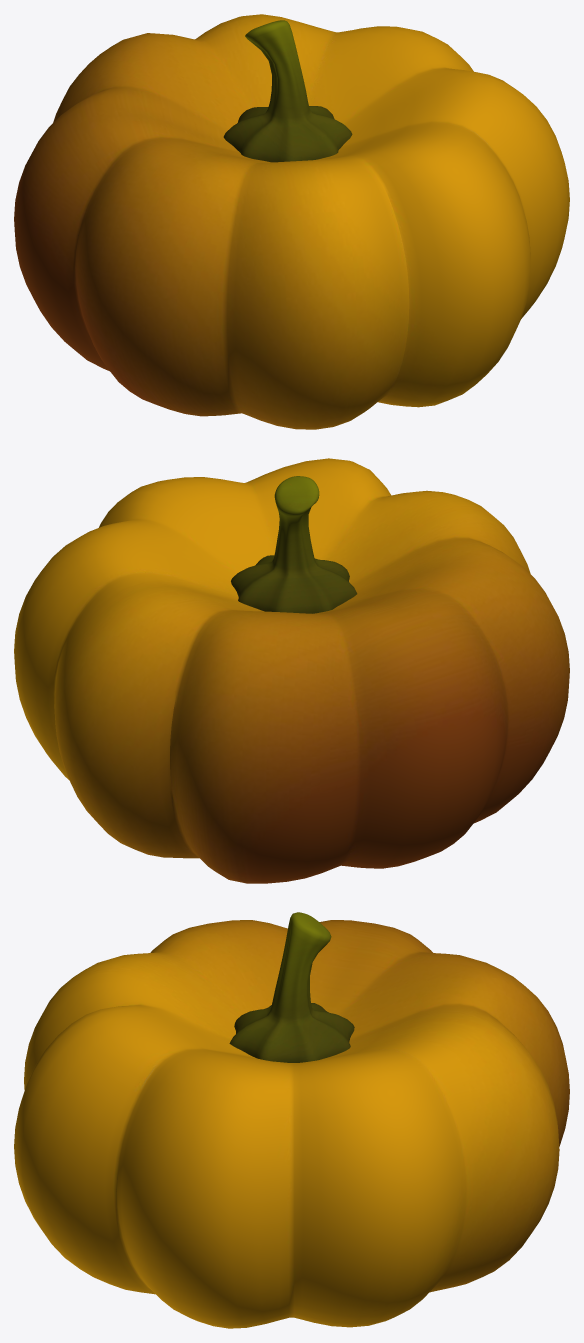
Rendered from pumpkin.glb.
3 renders of one model, top to bottom at view 1: azimuth 30°, elevation 25°; view 2: azimuth 150°, elevation 25°; view 3: azimuth 270°, elevation 25°, orthographic.
Parts seen in each view (by area): view 1: pumbkin001_1, top_pumbkin001_0; view 2: pumbkin001_1, top_pumbkin001_0; view 3: pumbkin001_1, top_pumbkin001_0.
Part boxes in pixels (x1,y1,x2,y2): pumbkin001_1: (14, 14, 569, 429); top_pumbkin001_0: (223, 20, 352, 162); pumbkin001_1: (14, 458, 569, 883); top_pumbkin001_0: (231, 476, 357, 613); pumbkin001_1: (14, 920, 569, 1328); top_pumbkin001_0: (229, 912, 354, 1062).
Size of the model in its own units: 3.02 by 2.05 by 3.1.
Materials: 2 (2 with a texture image).
